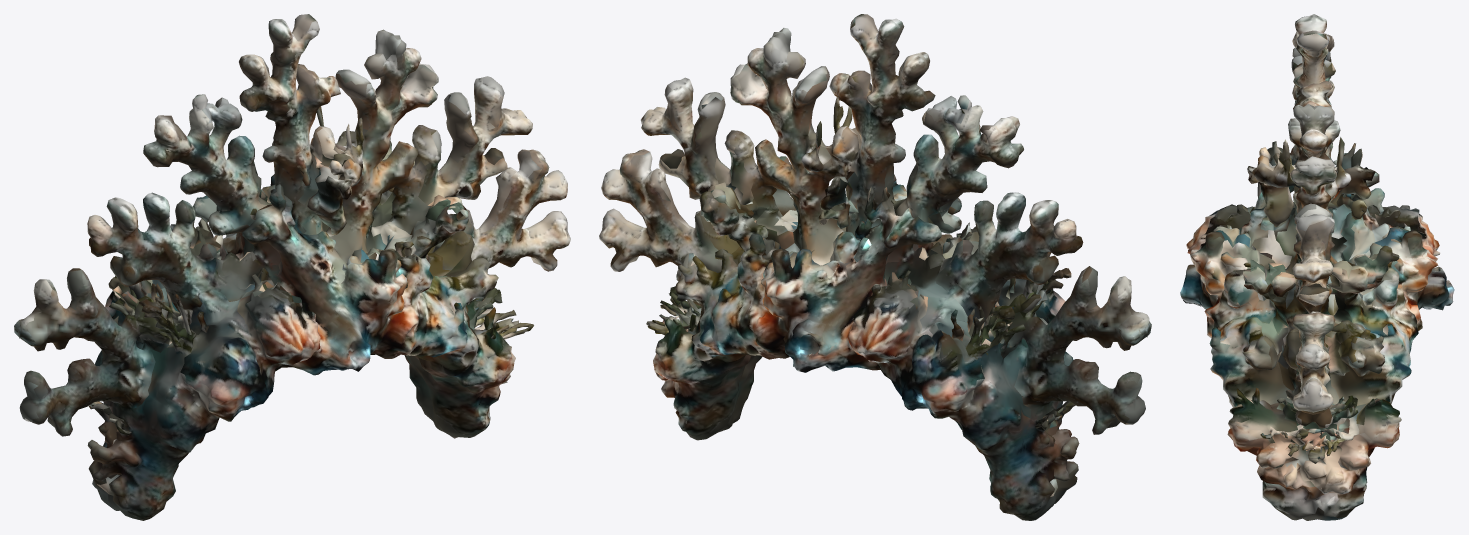
Rendered from maris_coral_crown.glb.
3 views of the same model, side by side, from view 1: azimuth 30°, elevation 25°; view 2: azimuth 150°, elevation 25°; view 3: azimuth 270°, elevation 25° (orthographic). The views are drawn at different scales.
Visible parts, largest first — view 1: geometry_0; view 2: geometry_0; view 3: geometry_0.
Part boxes in pixels (x1,y1,x2,y2): geometry_0: (14,14,570,520); geometry_0: (599,14,1151,520); geometry_0: (1180,14,1454,520).
Size of the model in its own units: 0.4498 by 0.3604 by 0.2105.
Materials: 1 (1 with a texture image).
